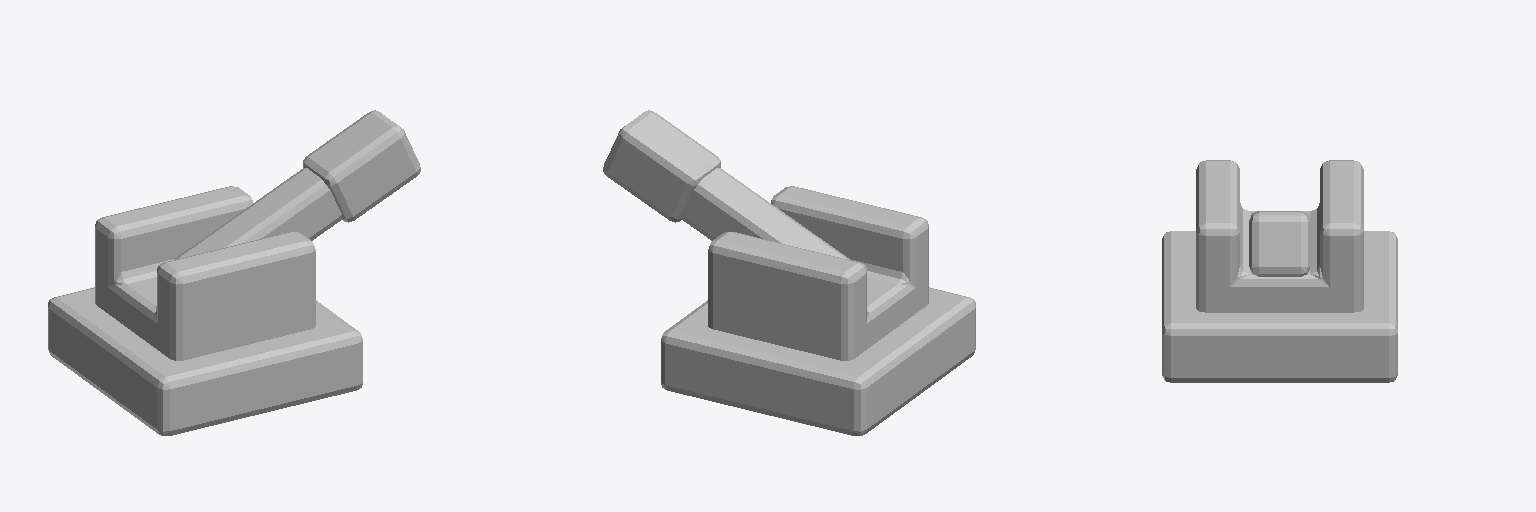
File: Lever_Right.obj
3 views of the same model, side by side, from view 1: azimuth 30°, elevation 25°; view 2: azimuth 150°, elevation 25°; view 3: azimuth 270°, elevation 25° (orthographic).
Visible parts, largest first — view 1: Lever_Right_Cube.473; view 2: Lever_Right_Cube.473; view 3: Lever_Right_Cube.473.
Boxes of the visible parts, x1=… form: Lever_Right_Cube.473: x1=48, y1=110, x2=420, y2=435; Lever_Right_Cube.473: x1=603, y1=110, x2=975, y2=435; Lever_Right_Cube.473: x1=1162, y1=160, x2=1397, y2=382.
Bounding box in the file's own units: 1.97 × 1.3 × 1.32.